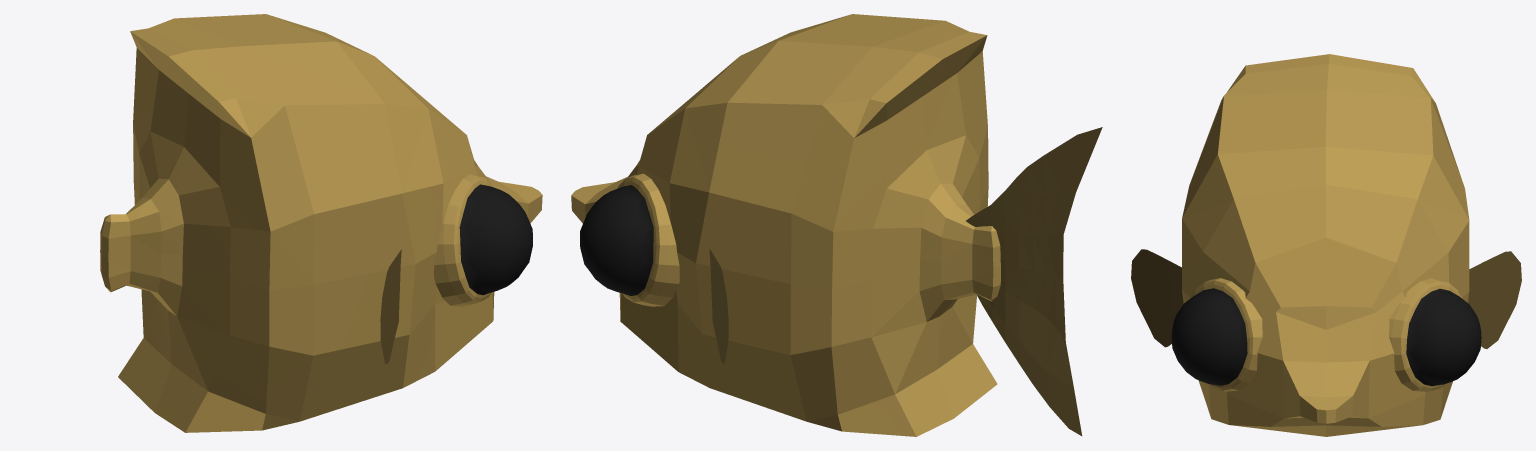
The model's file is fish_yellow.glb.
3 views of the same model, side by side, from view 1: azimuth 30°, elevation 25°; view 2: azimuth 150°, elevation 25°; view 3: azimuth 270°, elevation 25° (orthographic). The views are drawn at different scales.
Parts seen in each view (by area): view 1: YellowTang; view 2: YellowTang; view 3: YellowTang.
Boxes of the visible parts, left/top/right/bottom form: YellowTang: left=100, top=14, right=542, bottom=432; YellowTang: left=571, top=14, right=1102, bottom=436; YellowTang: left=1131, top=54, right=1521, bottom=436.
Size of the model in its own units: 1 by 0.6418 by 0.7237.
